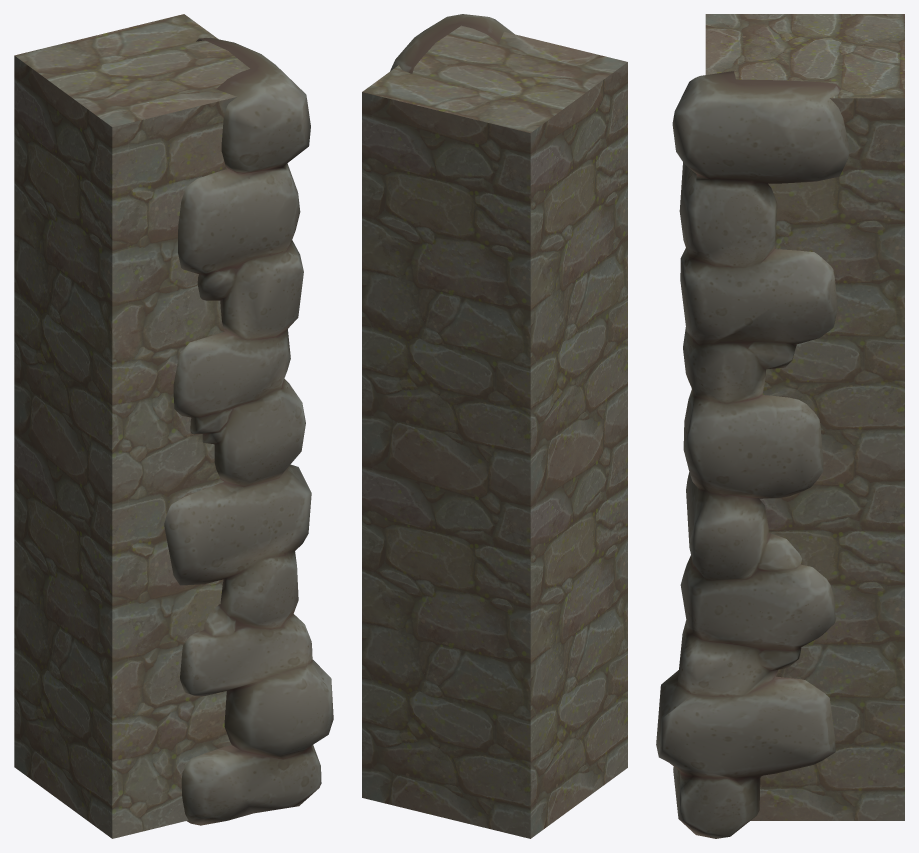
Rendered from SM_FW01_Ruins_Wall_Corner_03.fbx.
The picture shows the model from 3 angles, left to right: view 1: azimuth 30°, elevation 25°; view 2: azimuth 150°, elevation 25°; view 3: azimuth 270°, elevation 25°; orthographic projection. The views are drawn at different scales.
Visible parts, largest first — view 1: SM_FW01_Ruins_Wall_Corner_03, SM_FW01_Ruins_Wall_Corner_03_LOD0; view 2: SM_FW01_Ruins_Wall_Corner_03, SM_FW01_Ruins_Wall_Corner_03_LOD0; view 3: SM_FW01_Ruins_Wall_Corner_03_LOD0, SM_FW01_Ruins_Wall_Corner_03.
Part boxes in pixels (<box>): SM_FW01_Ruins_Wall_Corner_03: <box>14,14,249,838</box>; SM_FW01_Ruins_Wall_Corner_03_LOD0: <box>164,37,333,825</box>; SM_FW01_Ruins_Wall_Corner_03: <box>362,25,627,838</box>; SM_FW01_Ruins_Wall_Corner_03_LOD0: <box>390,14,514,73</box>; SM_FW01_Ruins_Wall_Corner_03_LOD0: <box>656,71,849,838</box>; SM_FW01_Ruins_Wall_Corner_03: <box>705,14,904,820</box>.
Size of what is drawn, in the model's own units: 1.21 by 4.11 by 1.25.
